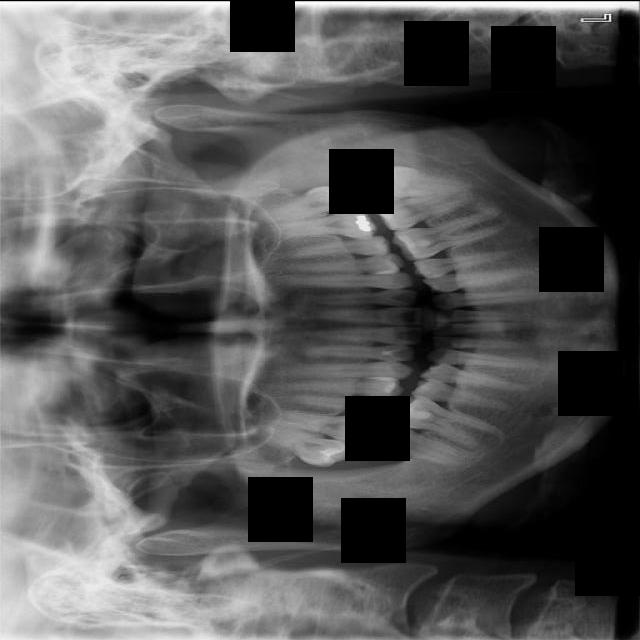52: (393, 397, 432, 435), (349, 414, 373, 442), (353, 211, 374, 235), (397, 230, 416, 250), (319, 442, 337, 459), (384, 380, 396, 393), (415, 238, 430, 246), (374, 402, 386, 410), (398, 197, 412, 202), (381, 349, 392, 354)
73: (564, 130, 572, 142)
BioHorizons Implant: (258, 179, 357, 225)
Biomet 3i Implant: (367, 158, 463, 201)
Blue Sky Bio Implant: (370, 188, 474, 233)
Caries: (261, 421, 355, 473)
Implant: (366, 420, 470, 468)
